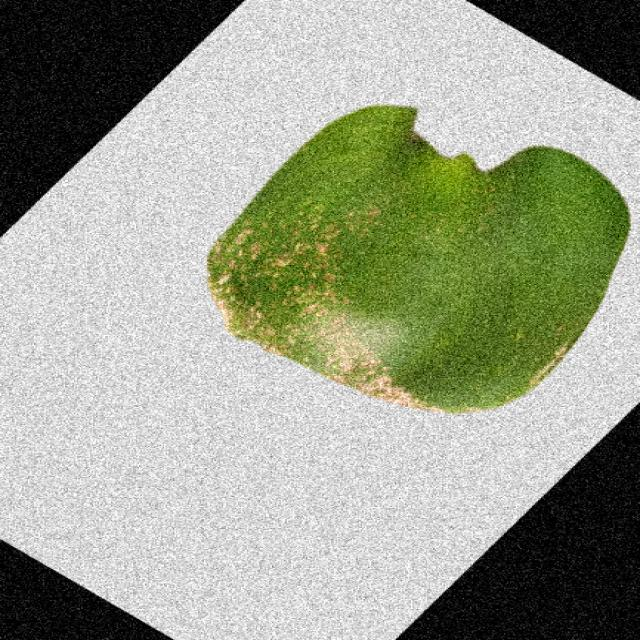daun berpenyakit bercak: (208, 105, 630, 414)
